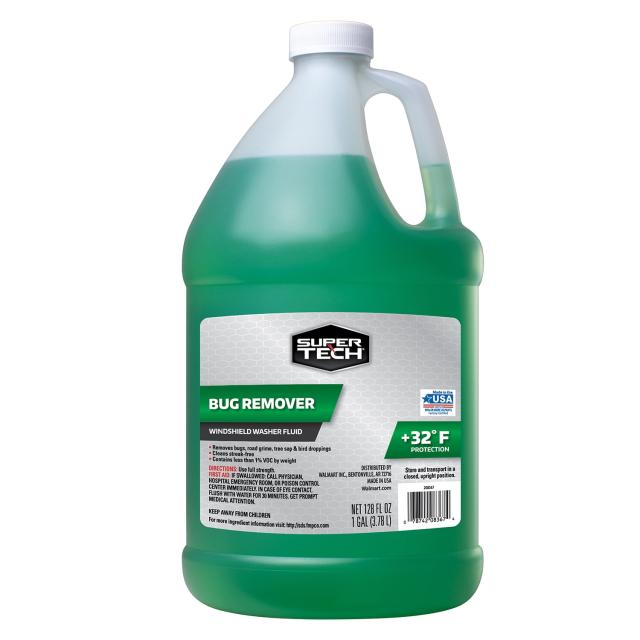winwinshield_washer: (167, 12, 503, 629)
